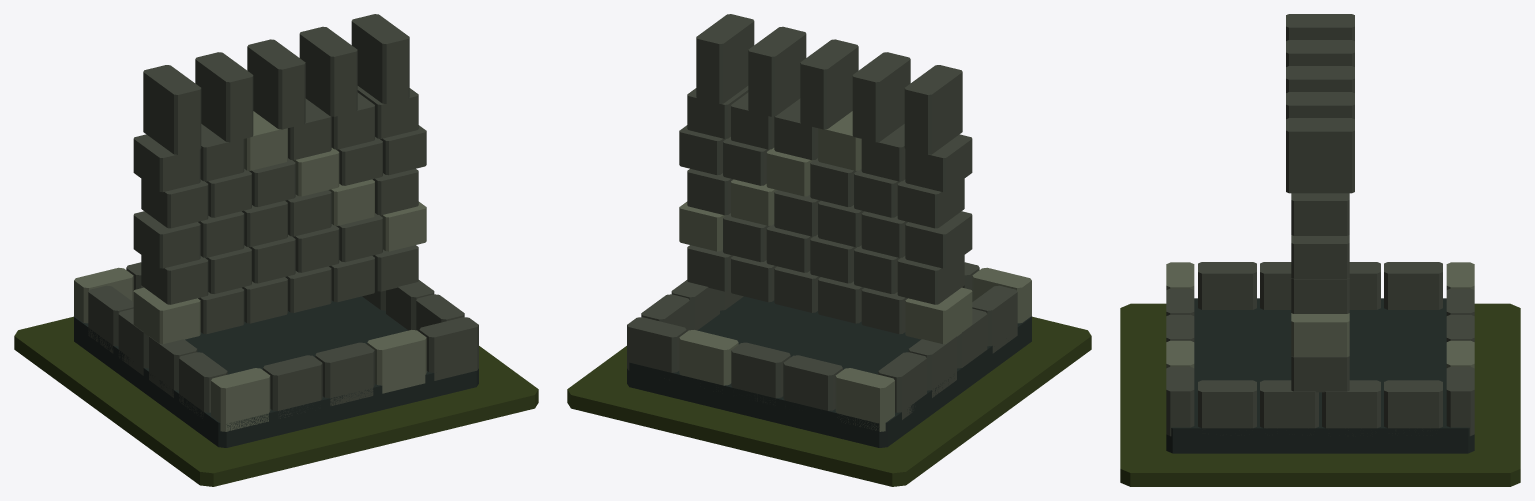
The model's file is stonewall_t2.glb.
The picture shows the model from 3 angles, left to right: view 1: azimuth 30°, elevation 25°; view 2: azimuth 150°, elevation 25°; view 3: azimuth 270°, elevation 25°; orthographic projection. The views are drawn at different scales.
Parts seen in each view (by area): view 1: MMR | stonewall | T02 Architecture.001, MMR | stonewall | Tier 02 Ground.001; view 2: MMR | stonewall | T02 Architecture.001, MMR | stonewall | Tier 02 Ground.001; view 3: MMR | stonewall | T02 Architecture.001, MMR | stonewall | Tier 02 Ground.001.
Boxes of the visible parts, bbox=[...] form: MMR | stonewall | T02 Architecture.001: bbox=[74, 14, 478, 447]; MMR | stonewall | Tier 02 Ground.001: bbox=[14, 316, 538, 486]; MMR | stonewall | T02 Architecture.001: bbox=[627, 14, 1031, 447]; MMR | stonewall | Tier 02 Ground.001: bbox=[567, 316, 1091, 486]; MMR | stonewall | T02 Architecture.001: bbox=[1166, 14, 1474, 453]; MMR | stonewall | Tier 02 Ground.001: bbox=[1120, 303, 1520, 486].
Size of the model in its own units: 1.3 by 1.18 by 1.3.
1 material, 1 textured.
